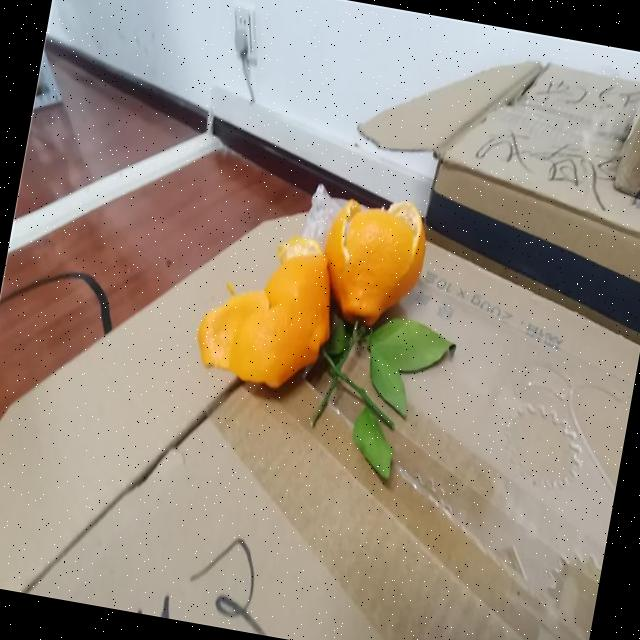orange-peel: (188, 166, 435, 412), (188, 220, 344, 397), (311, 186, 434, 333)
